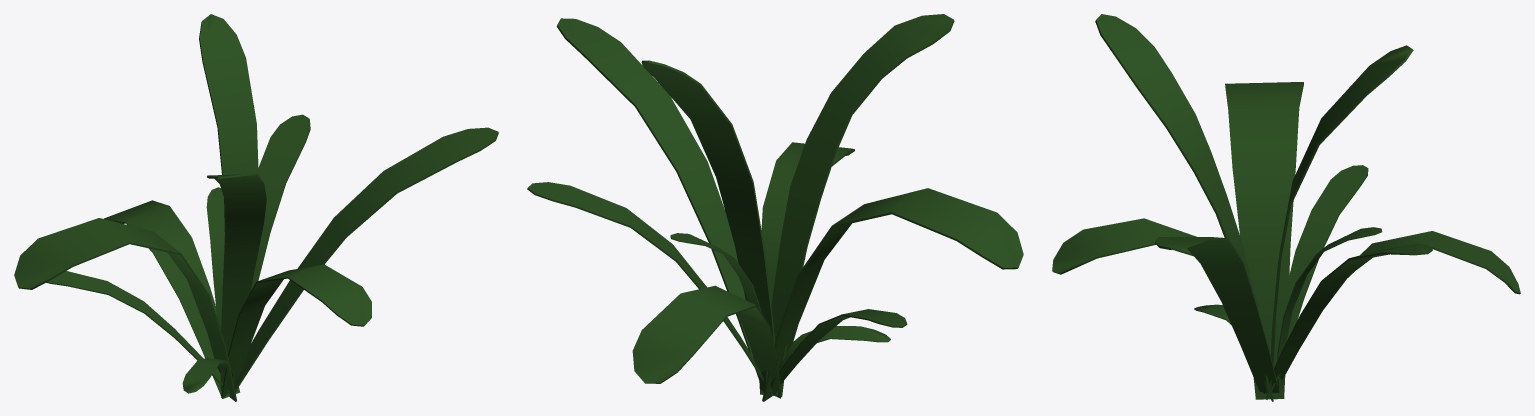
3 renders of one model, left to right at view 1: azimuth 30°, elevation 25°; view 2: azimuth 150°, elevation 25°; view 3: azimuth 270°, elevation 25°, orthographic. The views are drawn at different scales.
Parts seen in each view (by area): view 1: Co; view 2: Co; view 3: Co.
Part boxes in pixels (x1,y1,x2,y2): Co: (14,14,498,401); Co: (527,14,1023,401); Co: (1052,14,1520,401).
Size of the model in its own units: 261 by 186 by 210.
